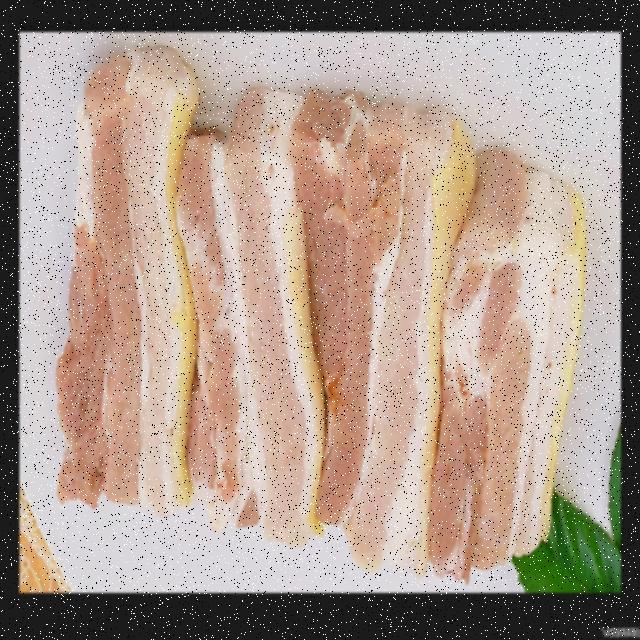pork: (282, 54, 438, 586), (171, 94, 333, 565), (49, 32, 191, 533), (431, 145, 580, 573)
